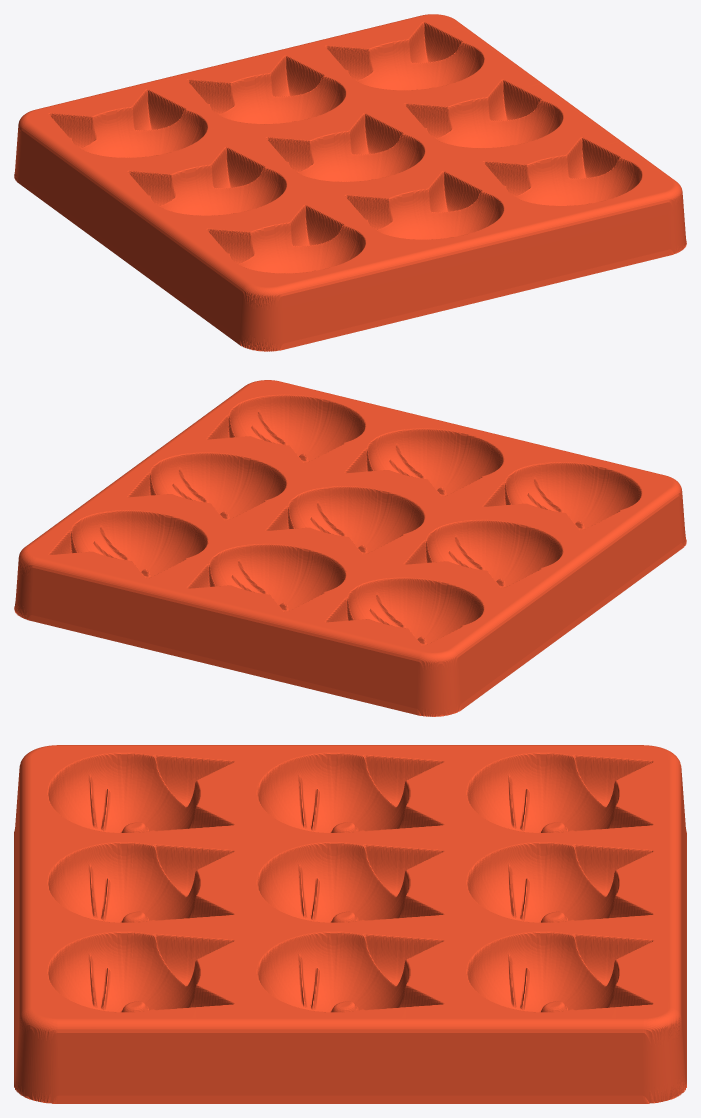
File: mold.glb
3 views of the same model, one above another, from view 1: azimuth 30°, elevation 25°; view 2: azimuth 150°, elevation 25°; view 3: azimuth 270°, elevation 25° (orthographic). The views are drawn at different scales.
Visible parts, largest first — view 1: geometry_0; view 2: geometry_0; view 3: geometry_0.
Part boxes in pixels (x1=…): geometry_0: x1=14, y1=14, x2=686, y2=351; geometry_0: x1=14, y1=380, x2=686, y2=716; geometry_0: x1=14, y1=745, x2=686, y2=1103.
Bounding box in the file's own units: 0.1387 × 0.0175 × 0.1373.
